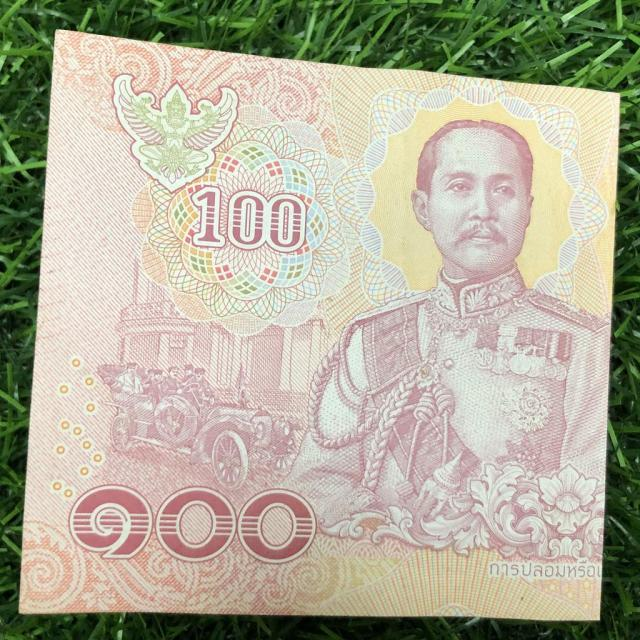THAI100: (19, 31, 619, 621)
